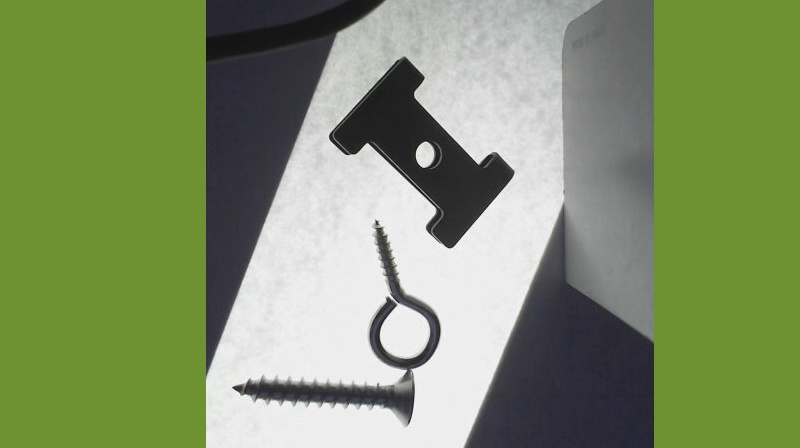O001: (367, 217, 441, 370)
O002: (328, 55, 514, 246)
S001: (230, 368, 415, 432)
